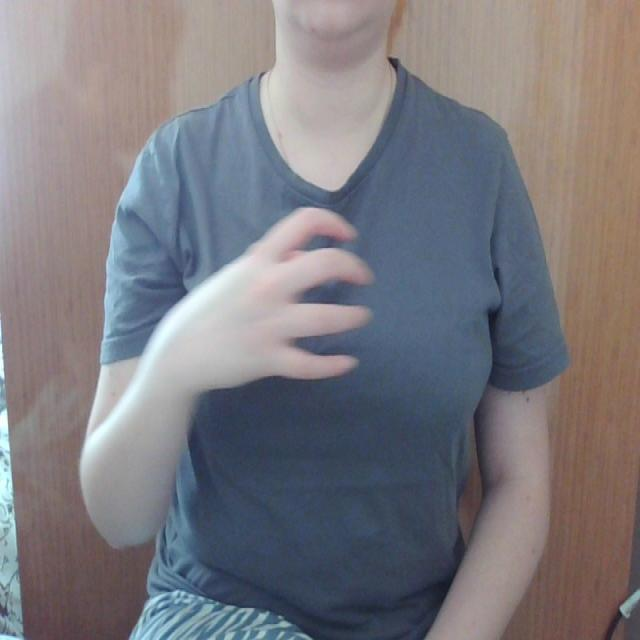Anne: (122, 206, 501, 398)
